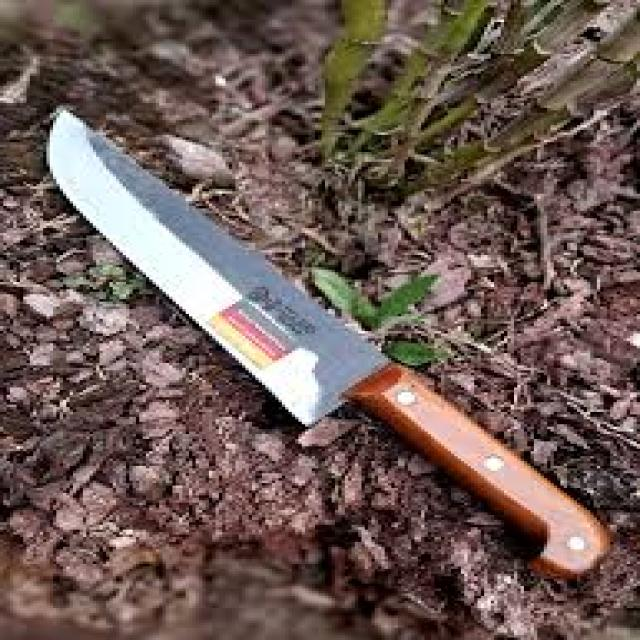knife: (46, 110, 613, 576)
